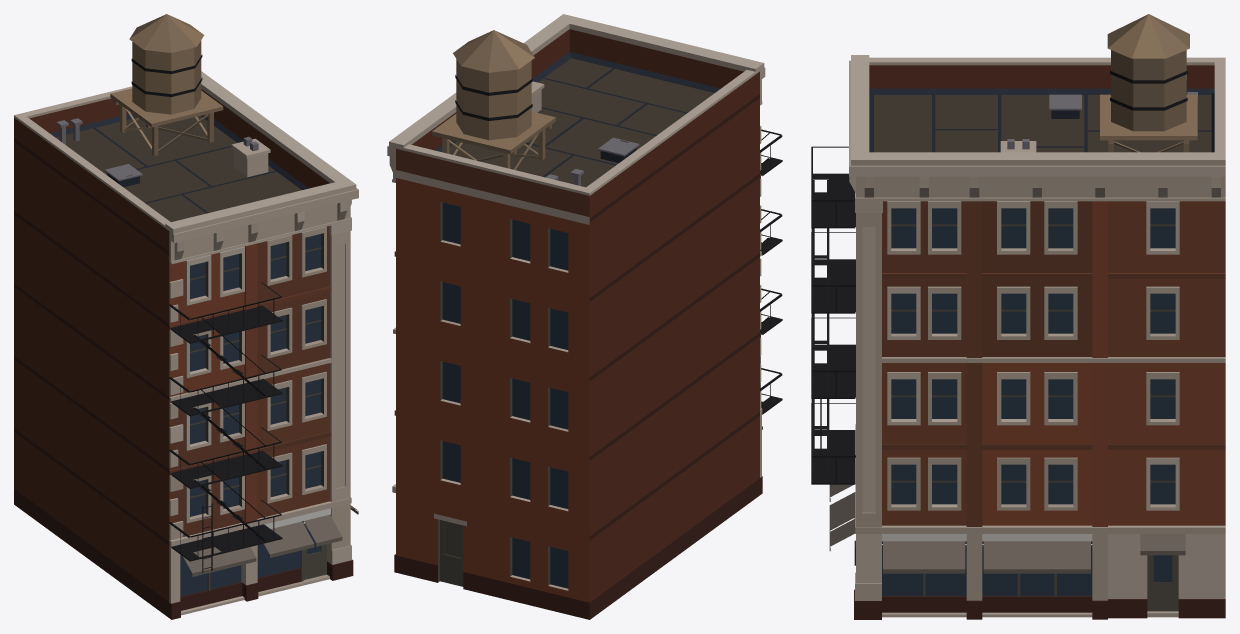
The model's file is corner-tenement-92fb62.glb.
3 views of the same model, side by side, from view 1: azimuth 30°, elevation 25°; view 2: azimuth 150°, elevation 25°; view 3: azimuth 270°, elevation 25° (orthographic). The views are drawn at different scales.
Parts seen in each view (by area): view 1: tenement-body, fire-escape-iron, water-tank-timber, awnings-canvas; view 2: tenement-body, water-tank-timber, fire-escape-iron; view 3: tenement-body, water-tank-timber, fire-escape-iron, awnings-canvas, entry-door-leaf.
Boxes of the visible parts, x1,y1,x2,y2 form: tenement-body: (14, 71, 358, 619); fire-escape-iron: (169, 282, 282, 561); water-tank-timber: (110, 14, 223, 156); awnings-canvas: (183, 505, 358, 576); tenement-body: (387, 14, 765, 619); water-tank-timber: (432, 30, 555, 170); fire-escape-iron: (760, 129, 782, 414); tenement-body: (849, 55, 1225, 619); water-tank-timber: (1100, 14, 1197, 152); fire-escape-iron: (811, 146, 855, 484); awnings-canvas: (829, 484, 1185, 573); entry-door-leaf: (1147, 555, 1178, 611).
Size of the model in its own units: 8.61 by 20.06 by 13.2.
